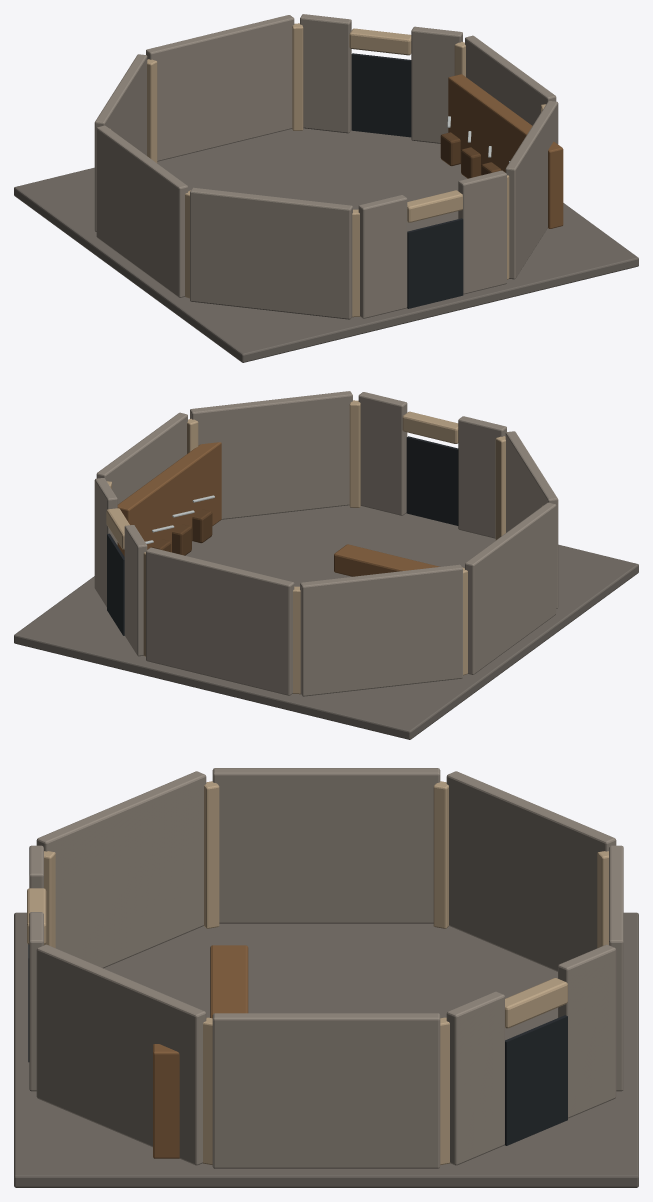
The model's file is wardroom_3980.glb.
3 views of the same model, one above another, from view 1: azimuth 30°, elevation 25°; view 2: azimuth 150°, elevation 25°; view 3: azimuth 270°, elevation 25° (orthographic). The views are drawn at different scales.
Parts seen in each view (by area): view 1: Room floor, SW solid wall, N solid wall, W solid wall, East equipment rack, NE doorway left, S doorway right, SE solid wall, S doorway left, NE passage shadow, NE doorway right, S passage shadow (+10 smaller); view 2: Room floor, NW solid wall, N solid wall, SE solid wall, W solid wall, East equipment rack, S doorway left, S doorway right, S passage shadow, E solid wall, SW solid wall, NE doorway left (+11 smaller); view 3: Room floor, E solid wall, W solid wall, SE solid wall, NW solid wall, SW solid wall, NE doorway right, NE doorway left, NE passage shadow, East equipment rack, Changing bench, N solid wall (+10 smaller).
Part boxes in pixels (x1,y1,x2,y2): Room floor: [14, 128, 638, 362]; SW solid wall: [190, 187, 352, 319]; N solid wall: [146, 15, 294, 161]; W solid wall: [96, 125, 187, 297]; East equipment rack: [448, 74, 563, 228]; NE doorway left: [300, 14, 351, 133]; S doorway right: [358, 195, 407, 318]; SE solid wall: [505, 101, 558, 279]; S doorway left: [458, 170, 506, 294]; NE passage shadow: [351, 53, 411, 137]; NE doorway right: [411, 26, 462, 143]; S passage shadow: [407, 218, 463, 308]; Room floor: [14, 505, 638, 739]; NW solid wall: [300, 564, 462, 696]; N solid wall: [146, 547, 294, 695]; SE solid wall: [190, 391, 352, 519]; W solid wall: [465, 502, 556, 674]; East equipment rack: [117, 442, 221, 556]; S doorway left: [358, 392, 407, 515]; S doorway right: [458, 416, 506, 538]; S passage shadow: [406, 436, 458, 525]; E solid wall: [96, 412, 187, 504]; SW solid wall: [505, 431, 558, 608]; NE doorway left: [124, 525, 147, 656]; Room floor: [14, 912, 638, 1187]; E solid wall: [212, 1013, 440, 1168]; W solid wall: [212, 768, 440, 923]; SE solid wall: [36, 944, 206, 1165]; NW solid wall: [446, 771, 616, 971]; SW solid wall: [36, 771, 206, 968]; NE doorway right: [446, 991, 504, 1165]; NE doorway left: [558, 944, 616, 1118]; NE passage shadow: [505, 1015, 567, 1145]; East equipment rack: [153, 1044, 179, 1158]; Changing bench: [210, 945, 248, 1018]; N solid wall: [609, 845, 623, 1091].
Bounding box in the file's own units: 18 × 5.2 × 18.
